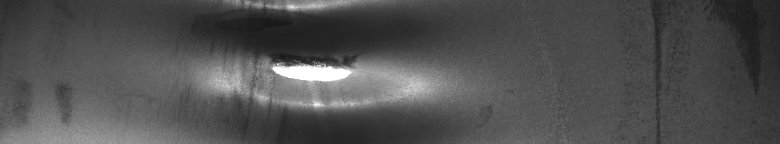ke: (218, 4, 402, 120)
